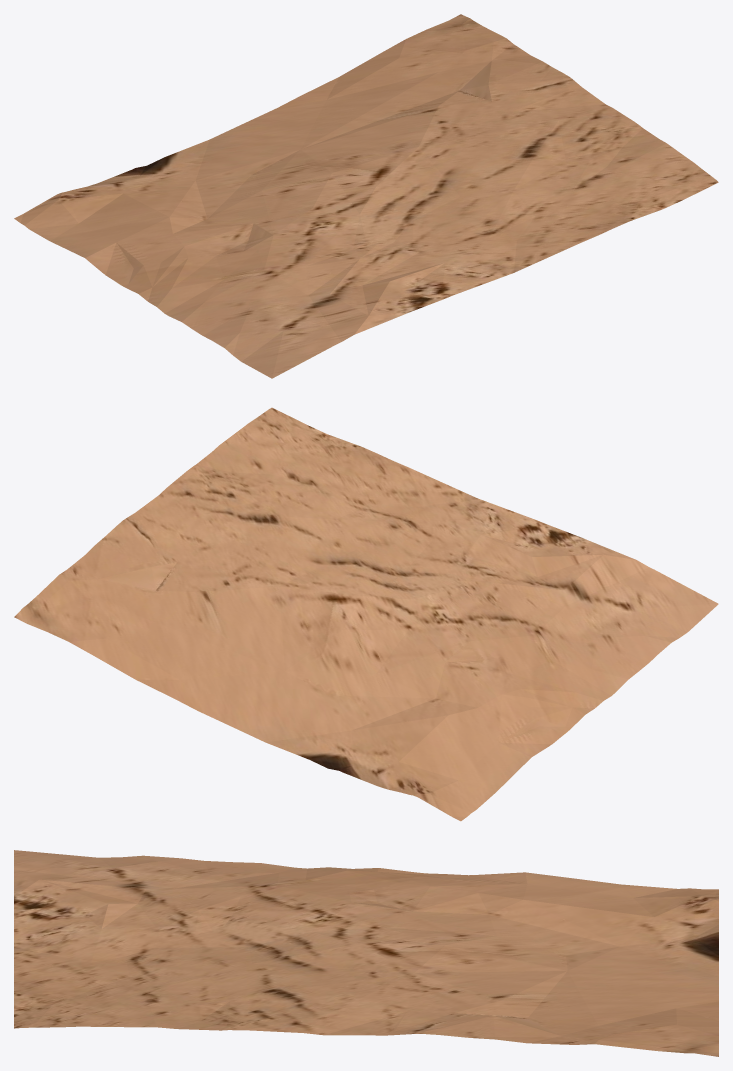
3 views of the same model, one above another, from view 1: azimuth 30°, elevation 25°; view 2: azimuth 150°, elevation 25°; view 3: azimuth 270°, elevation 25° (orthographic). The views are drawn at different scales.
Bounding box in the file's own units: 1.04 × 0.2623 × 1.04.
Materials: 2 (2 with a texture image).
